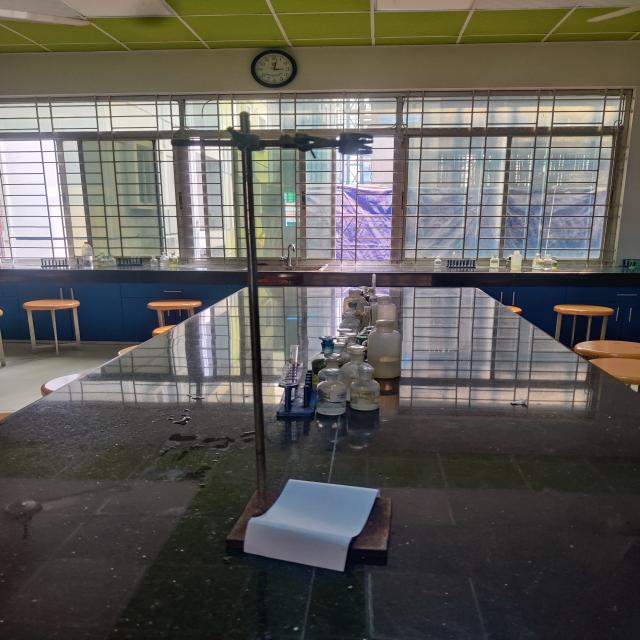Burette_Stands: (150, 100, 418, 588)
